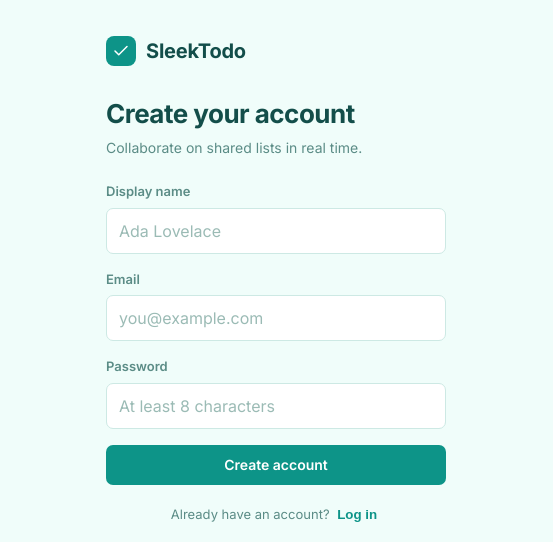
Test: App session recovery › does not let late bootstrap overwrite a manual login
This screenshot has width=553, height=542.
Click the button "Log in": (357, 514) 333,502 -> 381,526
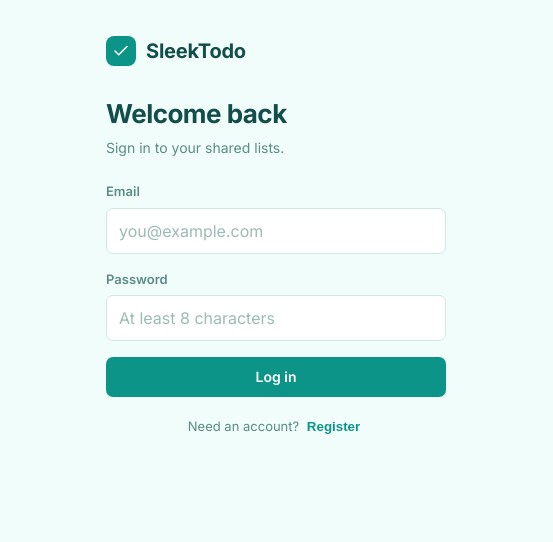
In the field labelled "Email": (276, 230) 106,208 -> 446,254, type "grace@example.com"
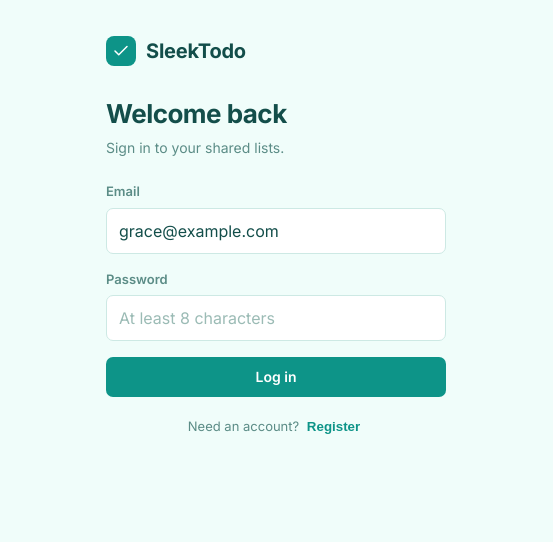
In the password field labelled "Password": (276, 318) 106,295 -> 446,341, type "correct horse battery staple"
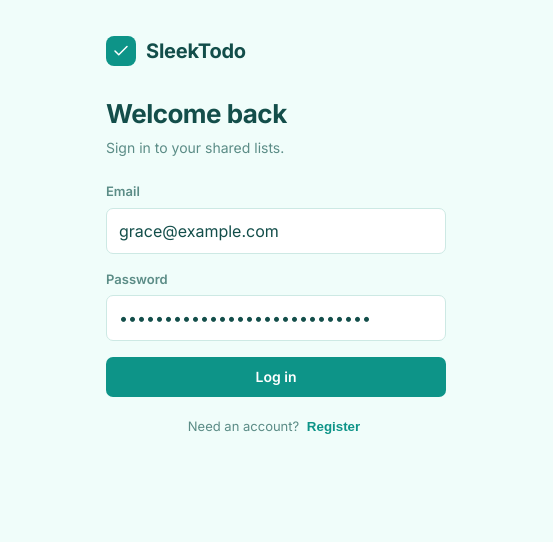
Click the button "Log in": (276, 377) 106,357 -> 446,397
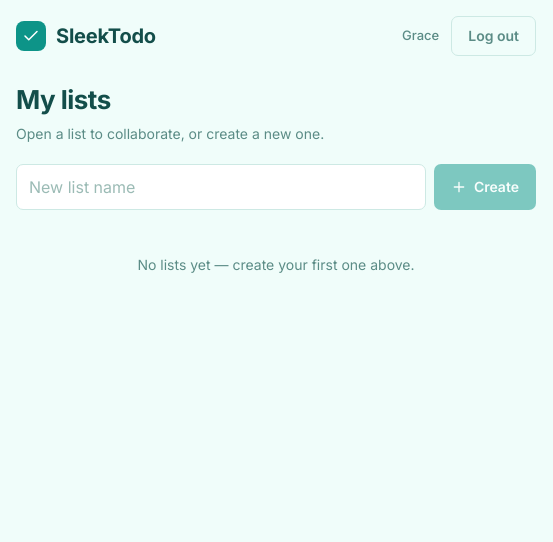
Check: the heading "My lists" is shown, box 16,84 -> 111,115
